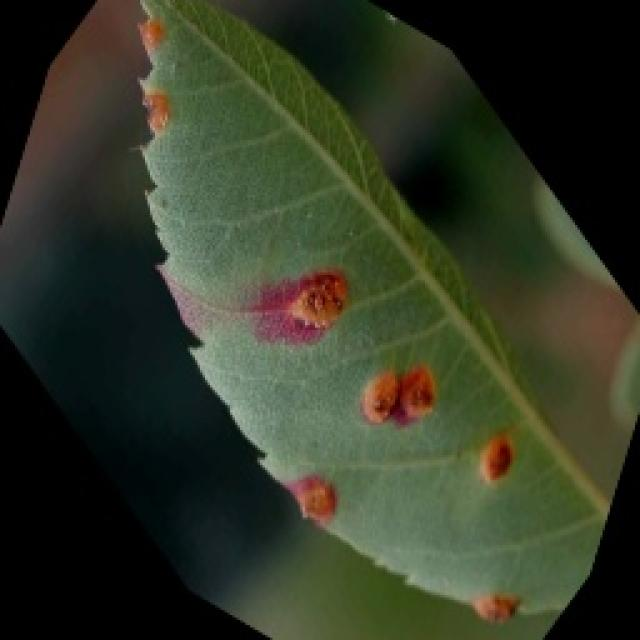Gymnosporangium_Rusts: (126, 19, 543, 601)
